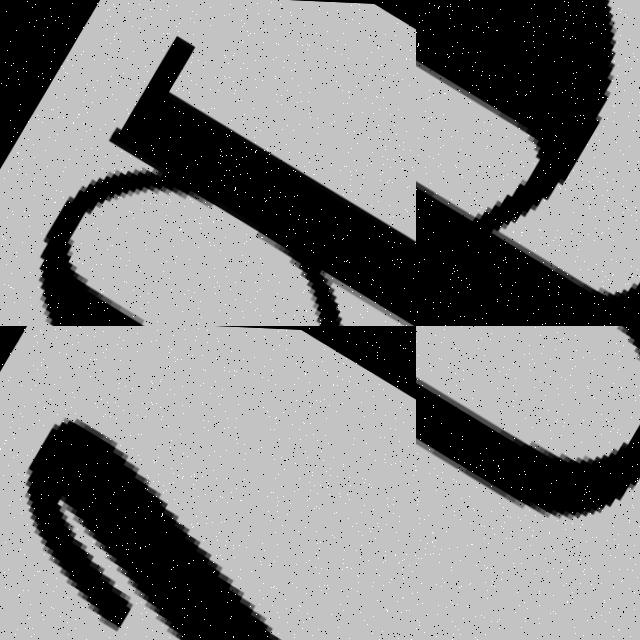A: (416, 0, 640, 326)
B: (32, 34, 416, 326)
H: (416, 374, 640, 514)
T: (0, 394, 416, 640)
